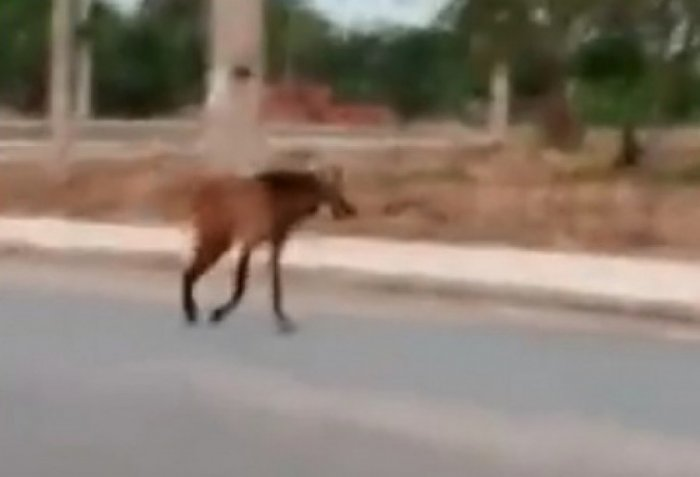LoboGuara: (175, 158, 360, 331)
